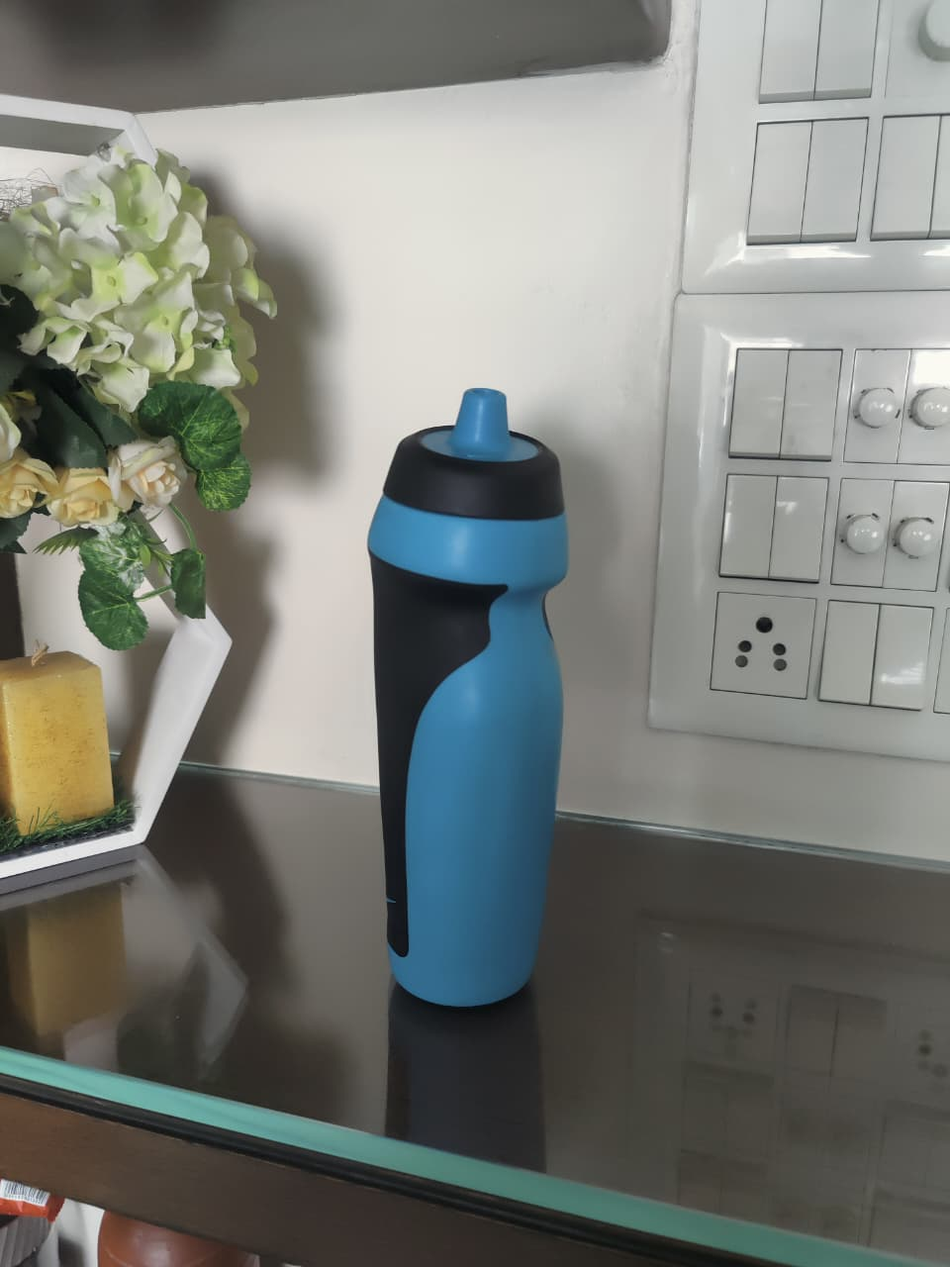bottle: (366, 388, 570, 1008)
